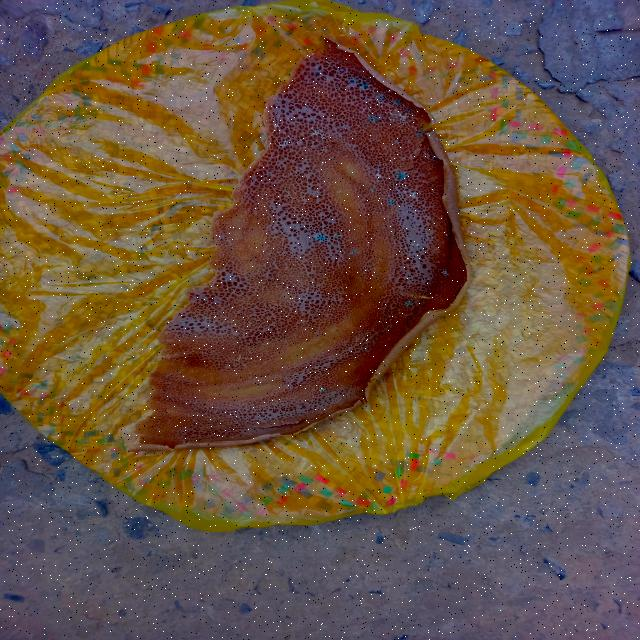injera_mold: (385, 108, 409, 124), (308, 126, 330, 142), (276, 134, 292, 148), (438, 267, 452, 279), (406, 190, 420, 201), (394, 171, 408, 181), (314, 234, 326, 242), (377, 92, 388, 100), (375, 169, 383, 179), (369, 114, 379, 122), (404, 300, 413, 306), (349, 78, 358, 84), (350, 249, 358, 255), (394, 138, 402, 144), (416, 131, 424, 137), (361, 83, 369, 89), (363, 107, 372, 112), (407, 107, 414, 113), (318, 387, 326, 392), (273, 123, 281, 128), (394, 100, 402, 105), (334, 234, 343, 238), (320, 160, 325, 166), (316, 65, 321, 70), (388, 200, 394, 204), (272, 129, 278, 133), (445, 233, 449, 237), (337, 190, 342, 193), (315, 73, 320, 76), (411, 243, 415, 246), (258, 414, 260, 418), (416, 244, 420, 246), (427, 278, 430, 280), (263, 408, 265, 410), (281, 411, 283, 413), (229, 427, 231, 429), (183, 442, 185, 444), (430, 271, 432, 273), (262, 412, 264, 413), (258, 420, 260, 421), (286, 412, 288, 413), (282, 421, 284, 422), (300, 419, 301, 420), (232, 437, 233, 438), (236, 432, 238, 432)
